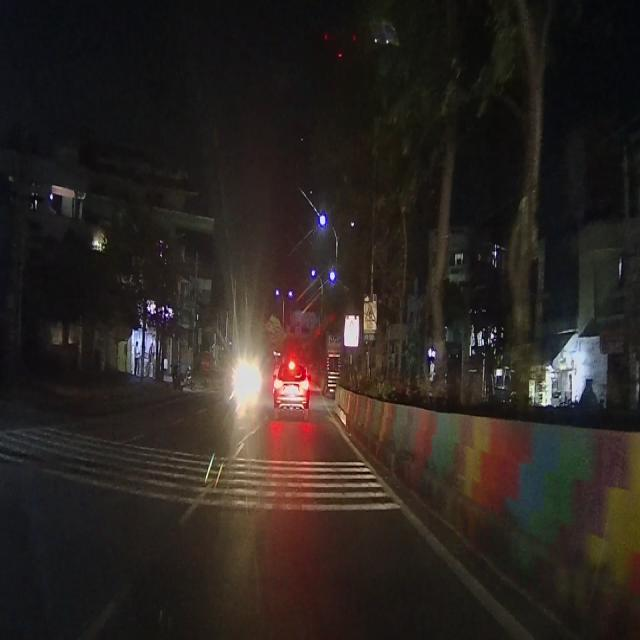gap-in-median: (365, 302, 376, 328)
